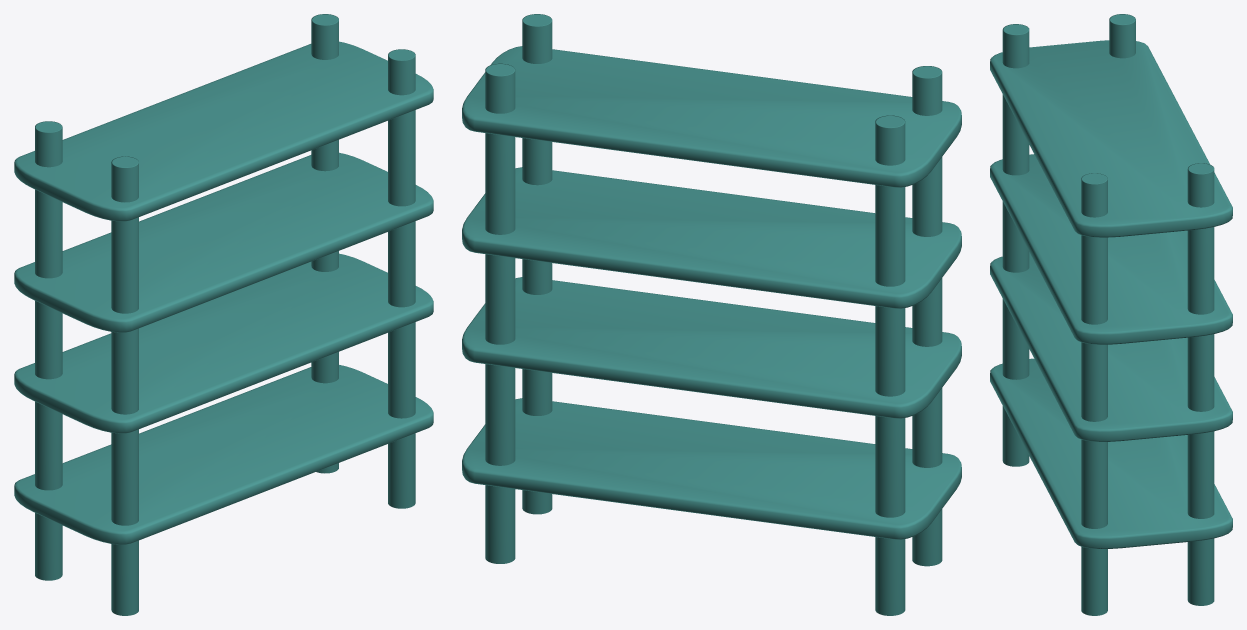
The model's file is Estante.fbx.
The picture shows the model from 3 angles, left to right: view 1: azimuth 30°, elevation 25°; view 2: azimuth 150°, elevation 25°; view 3: azimuth 270°, elevation 25°; orthographic projection. The views are drawn at different scales.
Parts seen in each view (by area): view 1: Cube.056, Cube.059, Cube.048, Cube.057, Cylinder.046, Cylinder.045, Cylinder.047, Cylinder.044; view 2: Cube.056, Cube.057, Cube.048, Cube.059, Cylinder.047, Cylinder.044, Cylinder.046, Cylinder.045; view 3: Cube.056, Cube.048, Cube.059, Cube.057, Cylinder.044, Cylinder.045, Cylinder.046, Cylinder.047.
Boxes of the visible parts, x1=… form: Cube.056: x1=14, y1=41, x2=433, y2=221; Cube.059: x1=14, y1=365, x2=433, y2=544; Cube.048: x1=14, y1=152, x2=433, y2=332; Cube.057: x1=14, y1=253, x2=433, y2=433; Cylinder.046: x1=111, y1=156, x2=138, y2=615; Cylinder.045: x1=388, y1=49, x2=415, y2=508; Cylinder.047: x1=35, y1=121, x2=62, y2=580; Cylinder.044: x1=311, y1=14, x2=338, y2=473; Cube.056: x1=462, y1=46, x2=961, y2=187; Cube.057: x1=462, y1=277, x2=961, y2=418; Cube.048: x1=462, y1=167, x2=961, y2=308; Cube.059: x1=462, y1=398, x2=961, y2=539; Cylinder.047: x1=875, y1=115, x2=905, y2=615; Cylinder.044: x1=485, y1=63, x2=515, y2=563; Cylinder.046: x1=912, y1=66, x2=942, y2=566; Cylinder.045: x1=522, y1=14, x2=552, y2=514; Cube.056: x1=990, y1=40, x2=1232, y2=237; Cube.048: x1=990, y1=154, x2=1232, y2=344; Cube.059: x1=990, y1=358, x2=1232, y2=548; Cube.057: x1=990, y1=252, x2=1232, y2=441; Cylinder.044: x1=1187, y1=163, x2=1214, y2=605; Cylinder.045: x1=1081, y1=173, x2=1107, y2=615; Cylinder.046: x1=1002, y1=24, x2=1029, y2=466; Cylinder.047: x1=1109, y1=14, x2=1135, y2=58.
Size of the model in its own units: 204 by 220 by 112.
